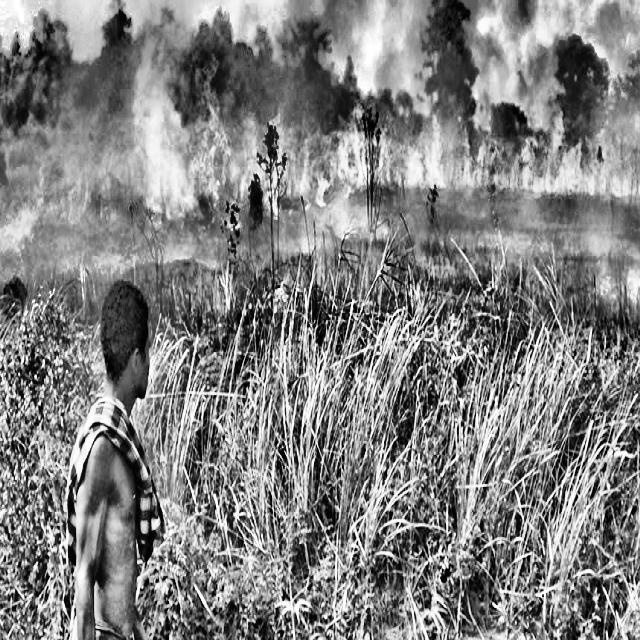fire: (9, 40, 630, 246)
